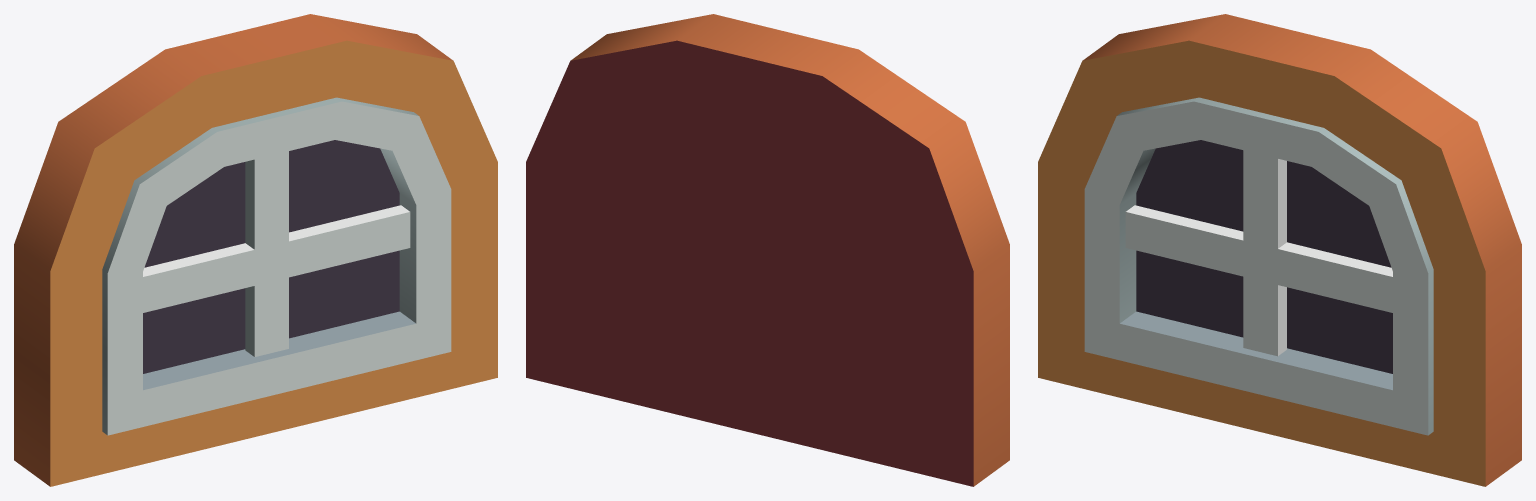
The model's file is Window01_Orange_White.glb.
3 views of the same model, side by side, from view 1: azimuth 30°, elevation 25°; view 2: azimuth 150°, elevation 25°; view 3: azimuth 330°, elevation 25° (orthographic).
Parts seen in each view (by area): view 1: Window01_Orange_White; view 2: Window01_Orange_White; view 3: Window01_Orange_White.
Boxes of the visible parts, <box> form: Window01_Orange_White: <box>14,14,497,486</box>; Window01_Orange_White: <box>526,14,1009,486</box>; Window01_Orange_White: <box>1038,14,1521,486</box>.
Bounding box in the file's own units: 0.8998 × 0.7186 × 0.1456.
1 material, 1 textured.
